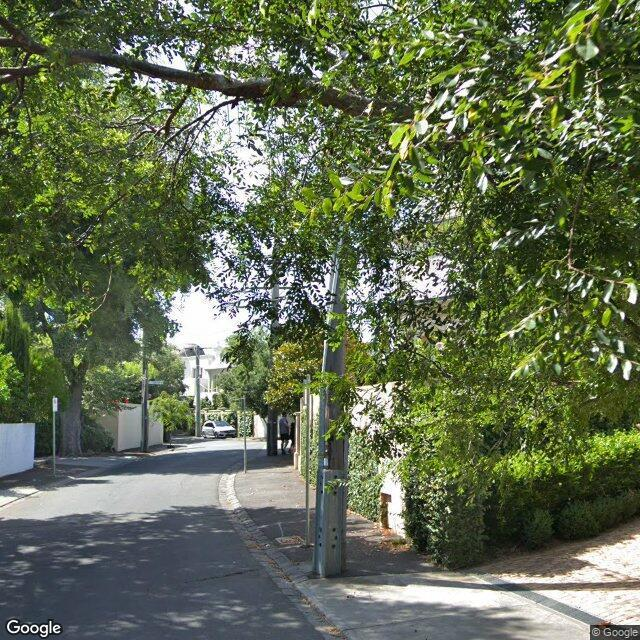timber-pole: (311, 233, 348, 578), (266, 235, 279, 457), (141, 330, 149, 452)
